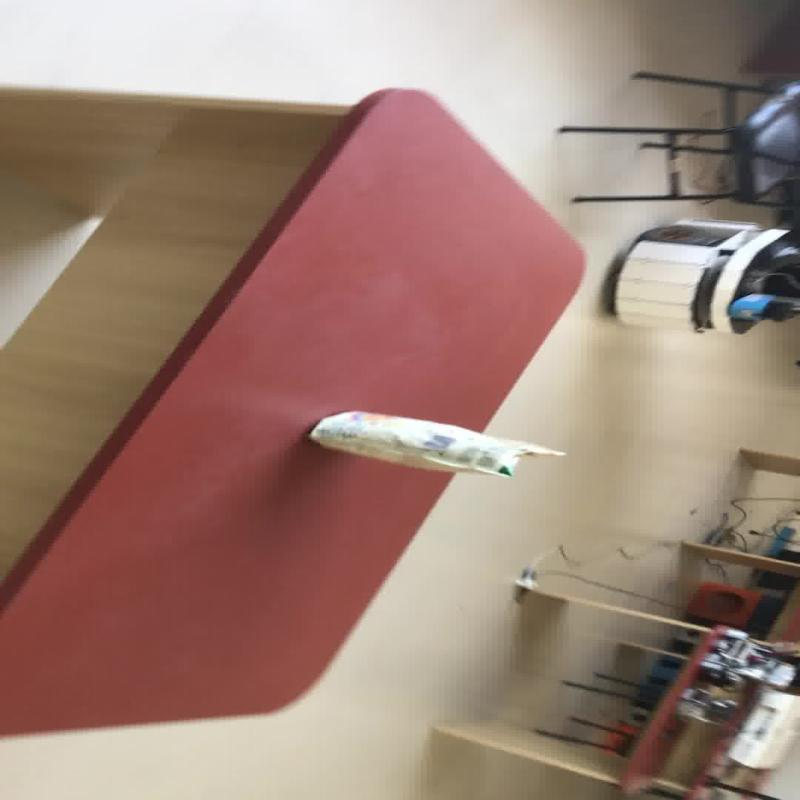corn flakes: (306, 408, 566, 478)
